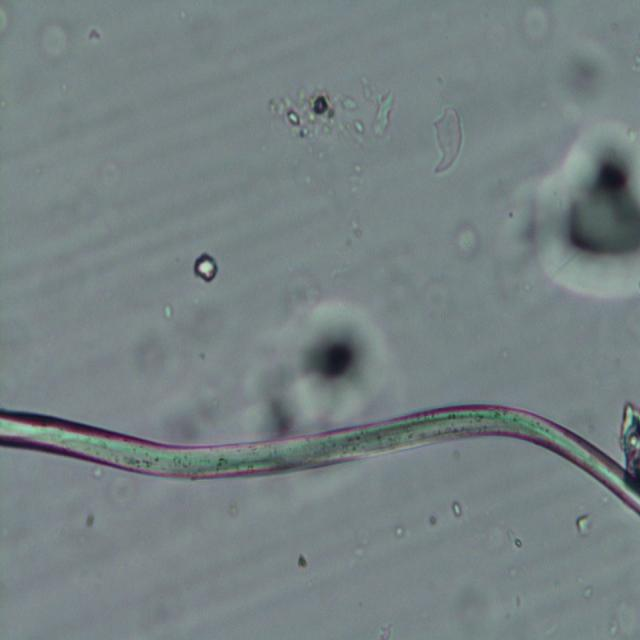Background material: (534, 117, 640, 303), (281, 300, 385, 418), (161, 364, 236, 445), (384, 242, 452, 324), (266, 84, 364, 140), (559, 43, 619, 110), (252, 368, 301, 441), (431, 103, 467, 180), (277, 253, 319, 312), (362, 76, 396, 141), (619, 400, 640, 472), (38, 19, 72, 61), (522, 6, 550, 49), (107, 477, 137, 510), (455, 228, 480, 265), (193, 250, 217, 287), (496, 521, 522, 553), (158, 298, 176, 324), (574, 514, 593, 538), (392, 520, 408, 538), (294, 555, 310, 572), (86, 25, 102, 42), (452, 500, 463, 520), (430, 510, 438, 527), (585, 590, 596, 601)
Microfibre: (0, 403, 640, 513)
